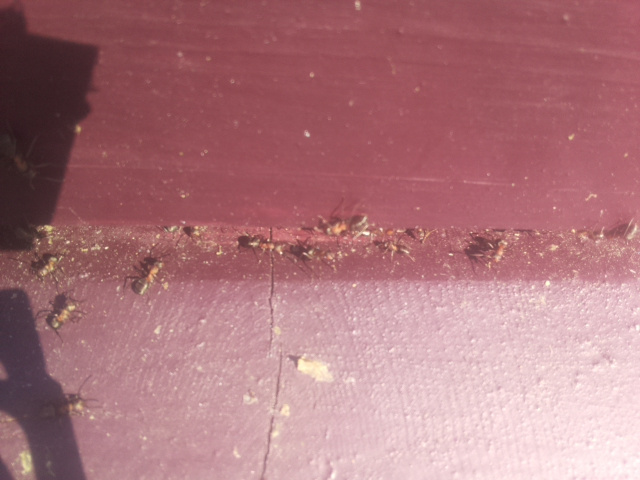ant: (0, 123, 44, 189), (42, 286, 83, 337), (128, 250, 167, 301), (31, 250, 66, 284), (378, 240, 416, 258)
